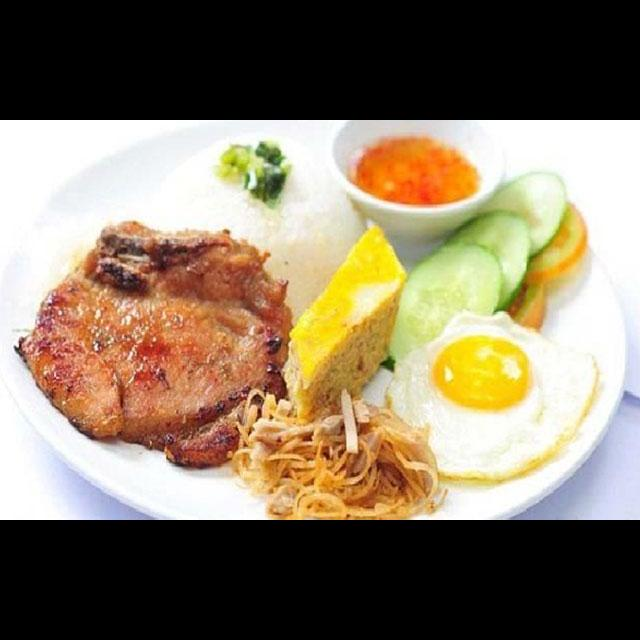bi: (225, 385, 452, 520)
com: (145, 129, 373, 279)
suon: (10, 214, 296, 472)
trung: (380, 306, 603, 488), (277, 219, 411, 428)
